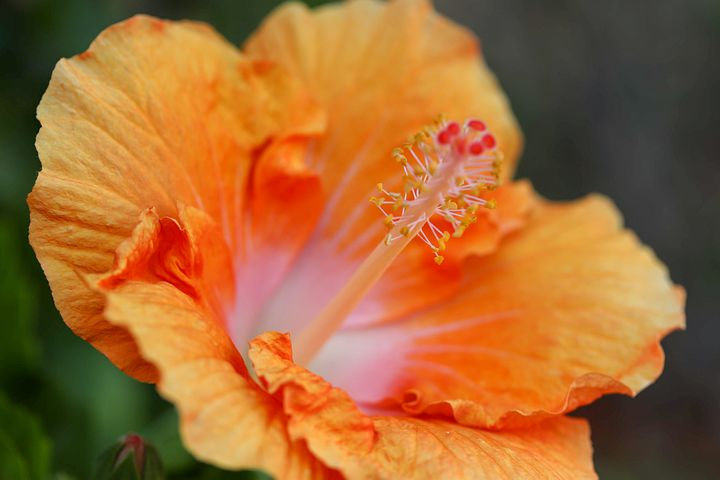Hibiscus: (34, 11, 701, 480)
